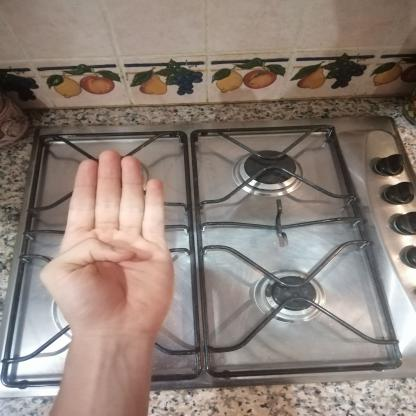KAAF: (25, 136, 189, 349)
